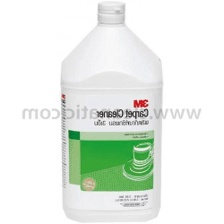cleaning_solution: (59, 0, 166, 223)
